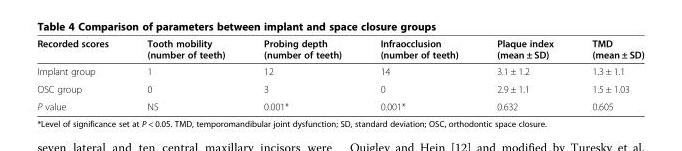table: (36, 37, 643, 111)
table column: (243, 37, 360, 111), (127, 37, 243, 111), (360, 37, 476, 111), (476, 37, 572, 111), (36, 37, 127, 111), (572, 37, 643, 111)
table column header: (36, 37, 643, 62)
table row: (36, 37, 643, 62), (36, 79, 643, 97), (36, 62, 643, 79), (36, 97, 643, 111)
